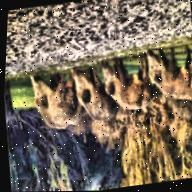boar: (59, 46, 122, 147), (94, 38, 161, 125), (19, 57, 84, 136), (140, 32, 192, 107)
